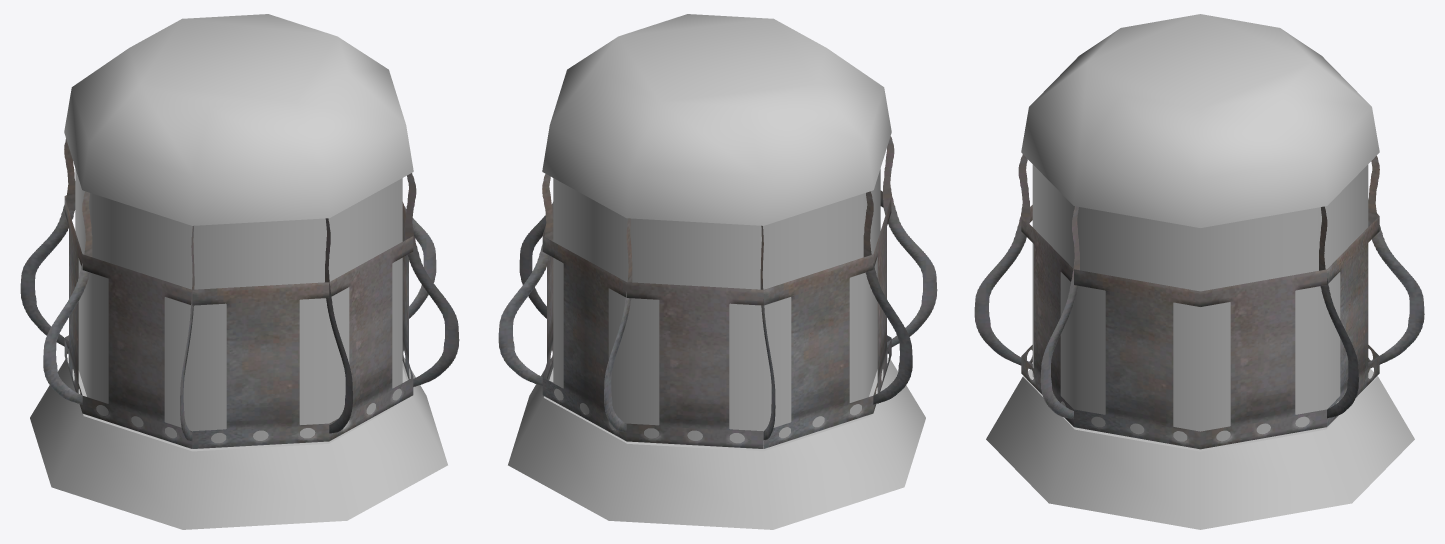
The model's file is frn_all_glow_lantern_l0.fbx.
3 renders of one model, left to right at view 1: azimuth 30°, elevation 25°; view 2: azimuth 150°, elevation 25°; view 3: azimuth 270°, elevation 25°, orthographic.
Visible parts, largest first — view 1: mesh_node; view 2: mesh_node; view 3: mesh_node.
Part boxes in pixels (x1,y1,x2,y2): mesh_node: (20,14,459,529); mesh_node: (498,14,937,529); mesh_node: (974,14,1424,529).
Size of the model in its own units: 0.2712 by 0.2452 by 0.2712.
